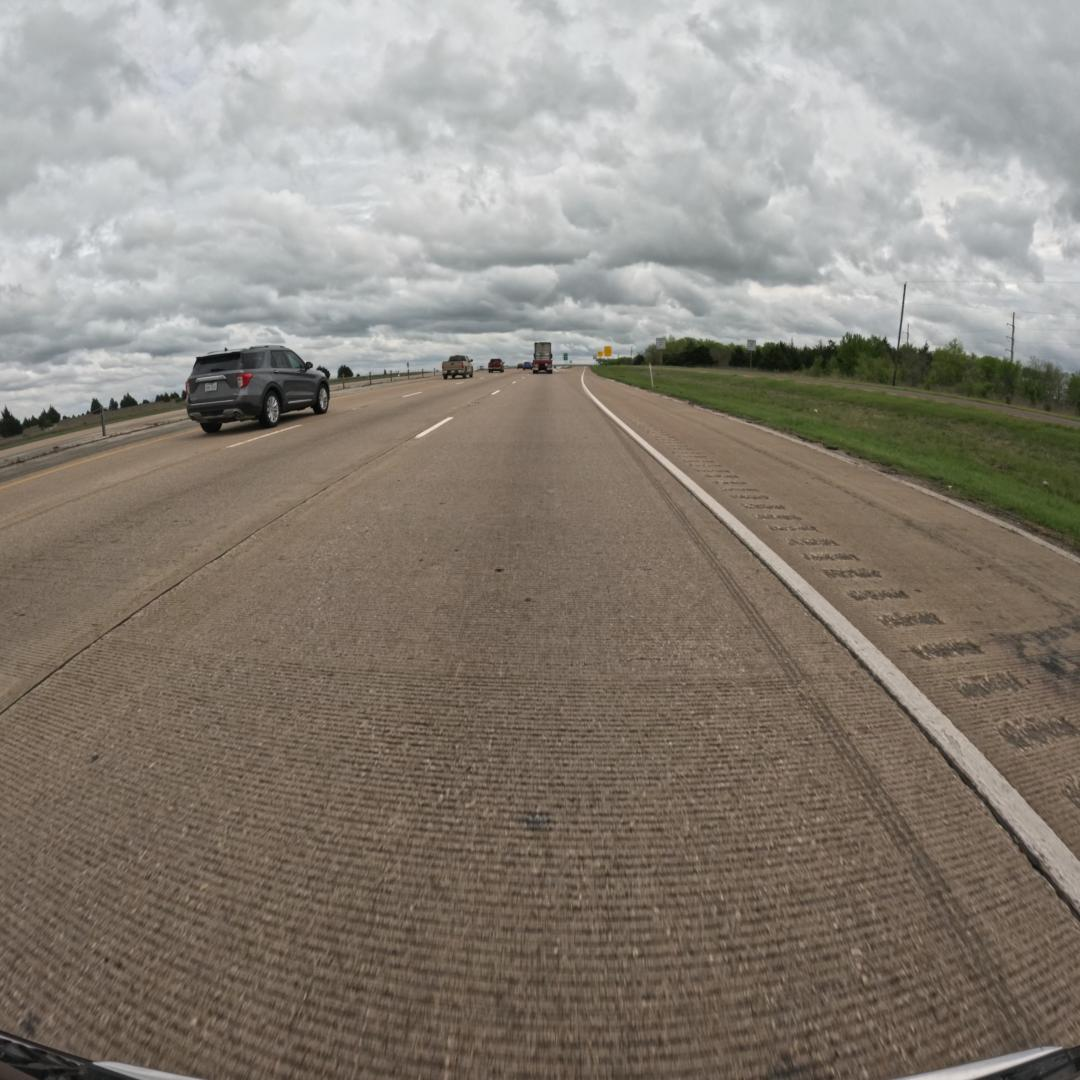lane0: (0, 377, 1080, 1077)
lane1: (0, 376, 510, 713)
